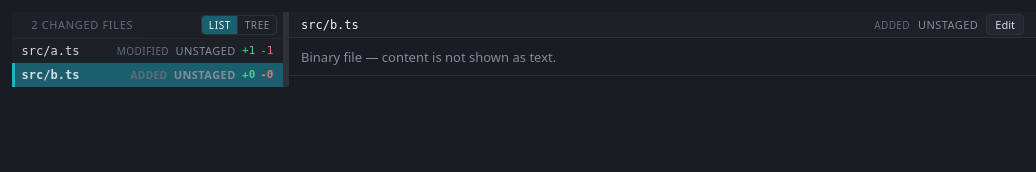
Scenario: DiffView file selection › moves the body when another file is picked
Click the button "src/a.ts Modified Unstaged +1 -1" at (148, 51), box [12,39,283,63]
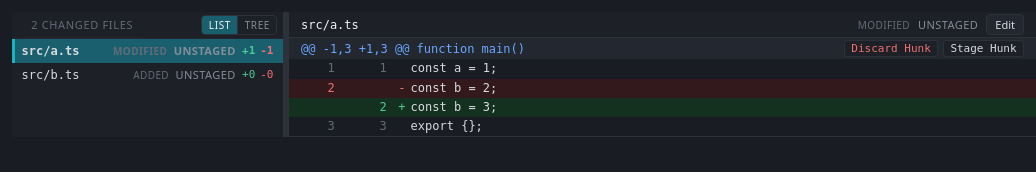
Expected: the text "src/a.ts" below "2 changed files" is shown, [22,44,79,58]
Result: the element "src/a.ts" is shown at [289,12,1035,137]
